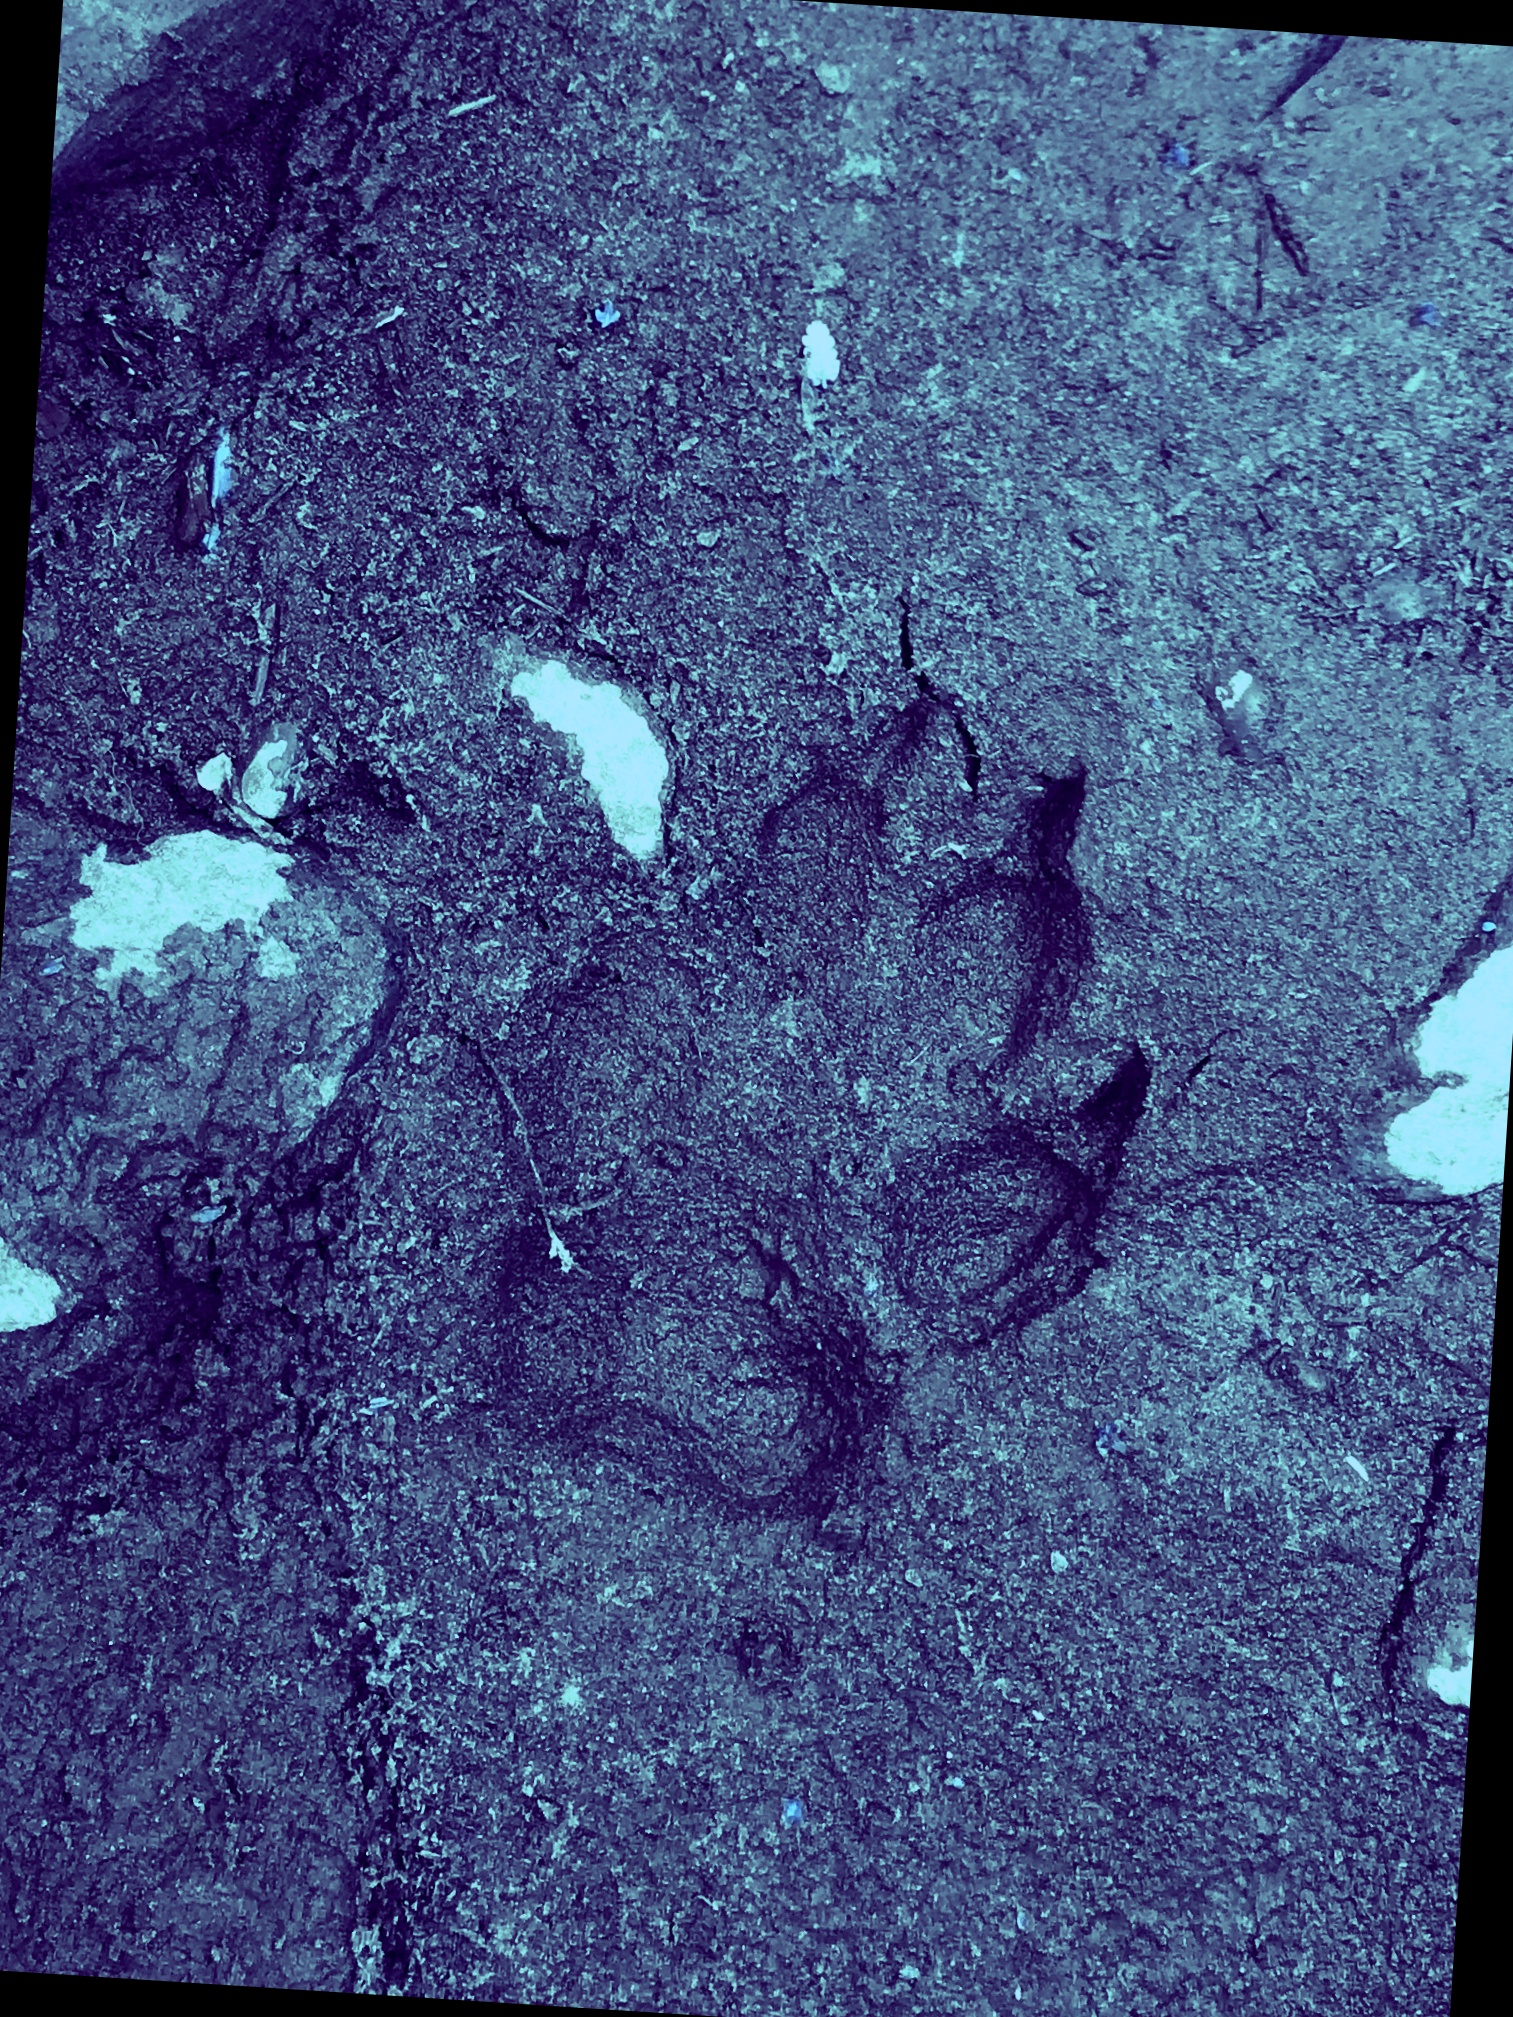loup: (348, 559, 1267, 1609)
